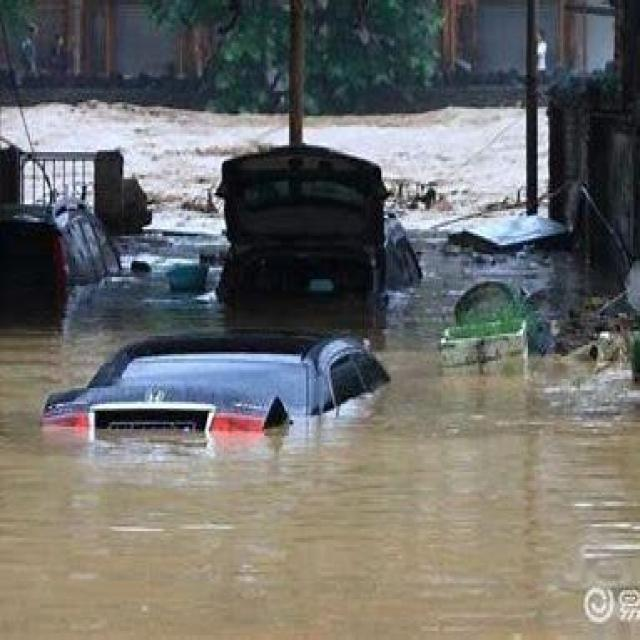water: (0, 223, 639, 639), (3, 99, 292, 233), (304, 102, 524, 224), (534, 101, 551, 216)
